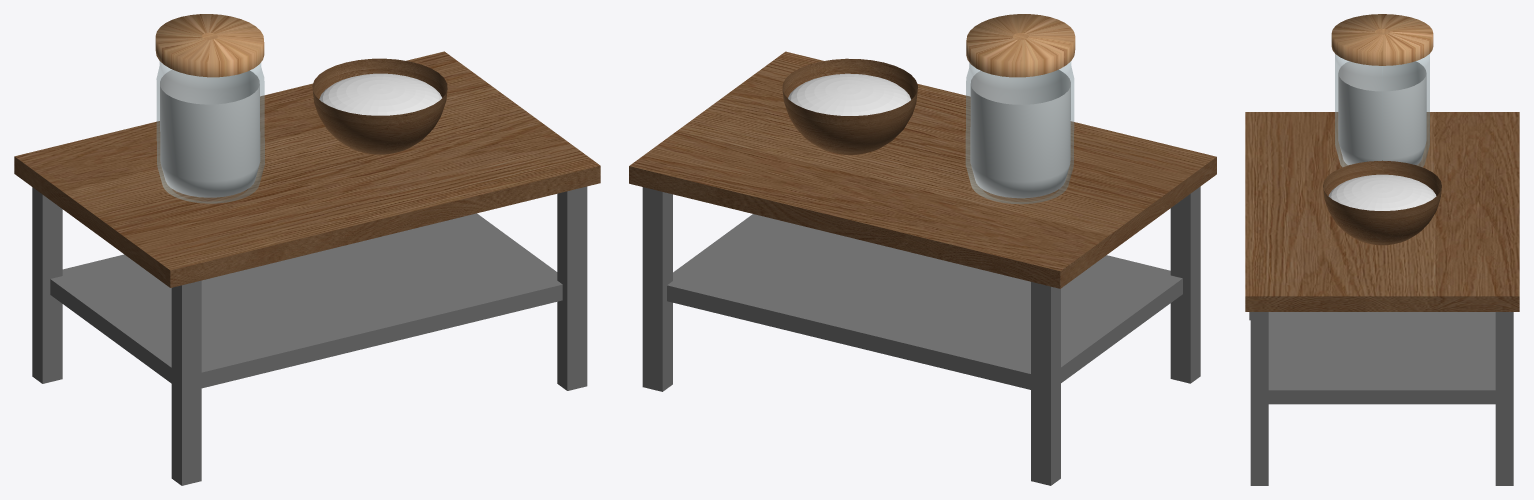
The model's file is Rice.fbx.
The picture shows the model from 3 angles, left to right: view 1: azimuth 30°, elevation 25°; view 2: azimuth 150°, elevation 25°; view 3: azimuth 270°, elevation 25°; orthographic projection. The views are drawn at different scales.
Parts seen in each view (by area): view 1: Cube.139, Cube.138, Cylinder.052, Cylinder.053, Sphere.024, Cube.137, Cube.134, Cylinder.054, Cube.136, Sphere.025; view 2: Cube.139, Cube.138, Cylinder.052, Cylinder.053, Sphere.024, Cube.135, Cube.136, Cylinder.054, Cube.137, Sphere.025; view 3: Cube.139, Cube.138, Cylinder.052, Cylinder.053, Sphere.024, Cylinder.054, Cube.134, Cube.135, Sphere.025.
Part boxes in pixels (left/top/right/bottom): Cube.139: left=14, top=51, right=600, bottom=287; Cube.138: left=50, top=213, right=562, bottom=388; Cylinder.052: left=156, top=61, right=264, bottom=203; Cylinder.053: left=160, top=69, right=260, bottom=197; Sphere.024: left=312, top=58, right=447, bottom=154; Cube.137: left=171, top=280, right=201, bottom=485; Cube.134: left=557, top=186, right=587, bottom=390; Cylinder.054: left=155, top=14, right=264, bottom=77; Cube.136: left=32, top=187, right=62, bottom=383; Sphere.025: left=319, top=73, right=441, bottom=115; Cube.139: left=629, top=51, right=1216, bottom=288; Cube.138: left=667, top=214, right=1182, bottom=389; Cylinder.052: left=965, top=61, right=1074, bottom=204; Cylinder.053: left=970, top=69, right=1070, bottom=198; Sphere.024: left=782, top=58, right=917, bottom=155; Cube.135: left=642, top=187, right=672, bottom=391; Cube.136: left=1031, top=282, right=1060, bottom=485; Cylinder.054: left=966, top=14, right=1075, bottom=77; Cube.137: left=1170, top=186, right=1200, bottom=383; Sphere.025: left=788, top=73, right=910, bottom=115; Cube.139: left=1245, top=112, right=1519, bottom=311; Cube.138: left=1268, top=312, right=1495, bottom=404; Cylinder.052: left=1335, top=54, right=1429, bottom=167; Cylinder.053: left=1338, top=61, right=1426, bottom=165; Sphere.024: left=1323, top=160, right=1441, bottom=245; Cylinder.054: left=1331, top=14, right=1433, bottom=65; Cube.134: left=1250, top=312, right=1268, bottom=485; Cube.135: left=1495, top=312, right=1513, bottom=485; Sphere.025: left=1328, top=174, right=1436, bottom=210.
Size of the model in its own units: 861 by 706 by 541.
8 materials, 4 textured.
